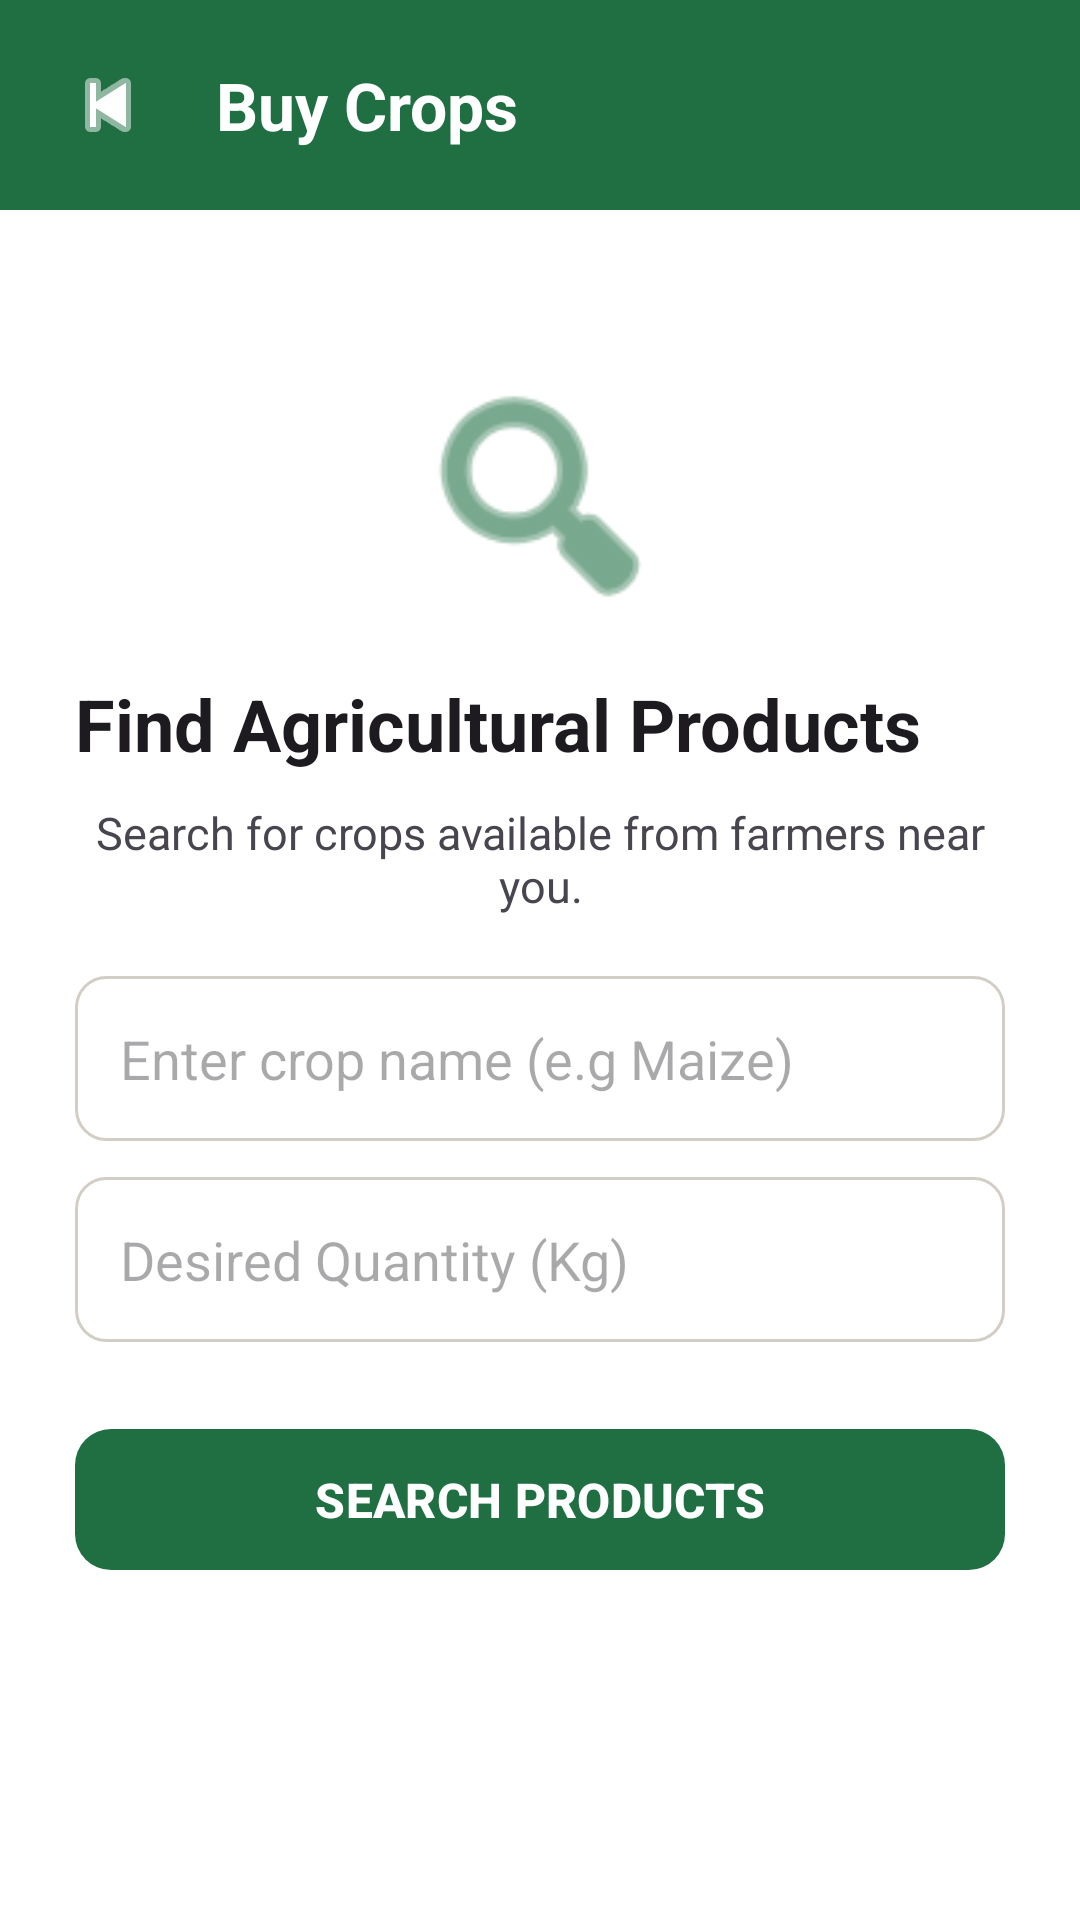

Point at icon controls on the screen. Image size 1080 x 1920, points as [x,y].
Back: [108,105]
Search: [540,496]
